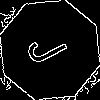J: (25, 25, 77, 68)
